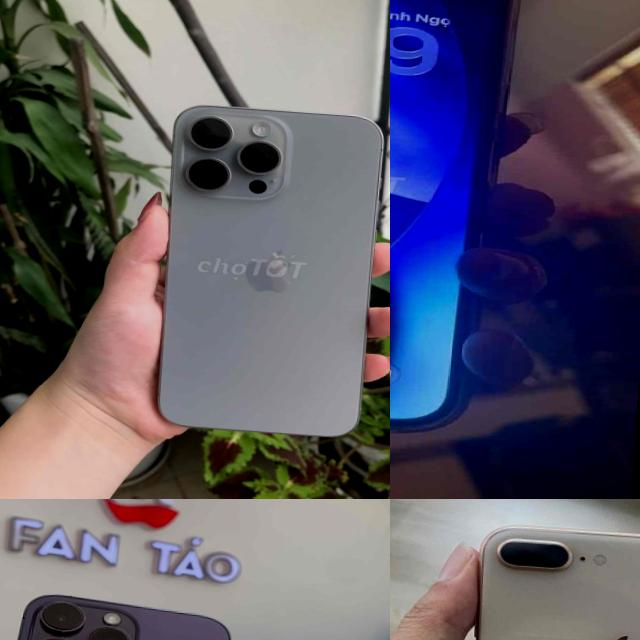gen_12_13: (390, 0, 534, 450)
gen_14: (0, 578, 263, 640)
gen_15: (114, 84, 390, 458)
gen_7_8: (443, 517, 640, 640)
